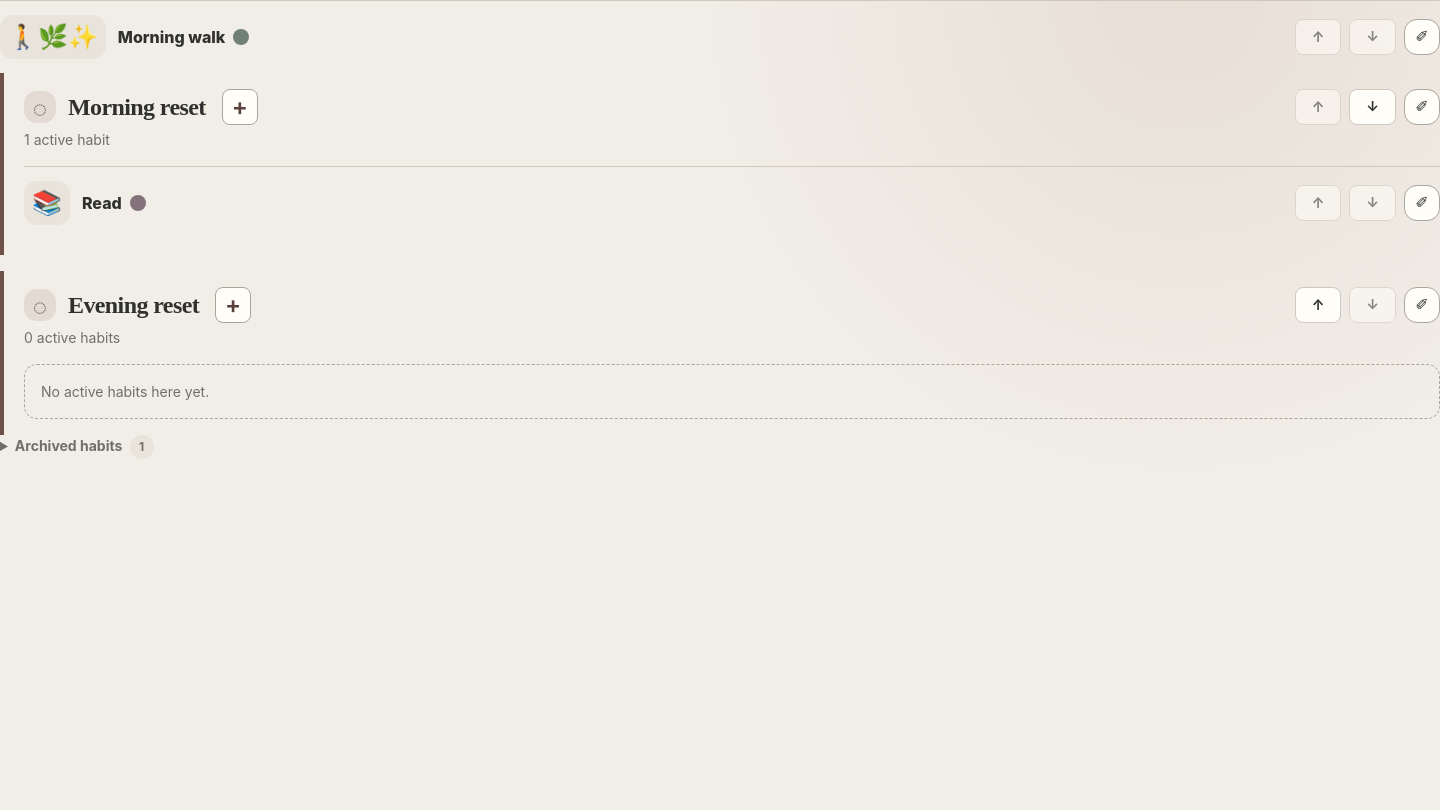
HabitList › keeps archived habits out of active routine lists and restores them in context
Expected: the text "Archived habits" is shown, [15,437,126,454]
Click the heading "Archived habits 1".
click(77, 447)  # box [0,435,154,459]
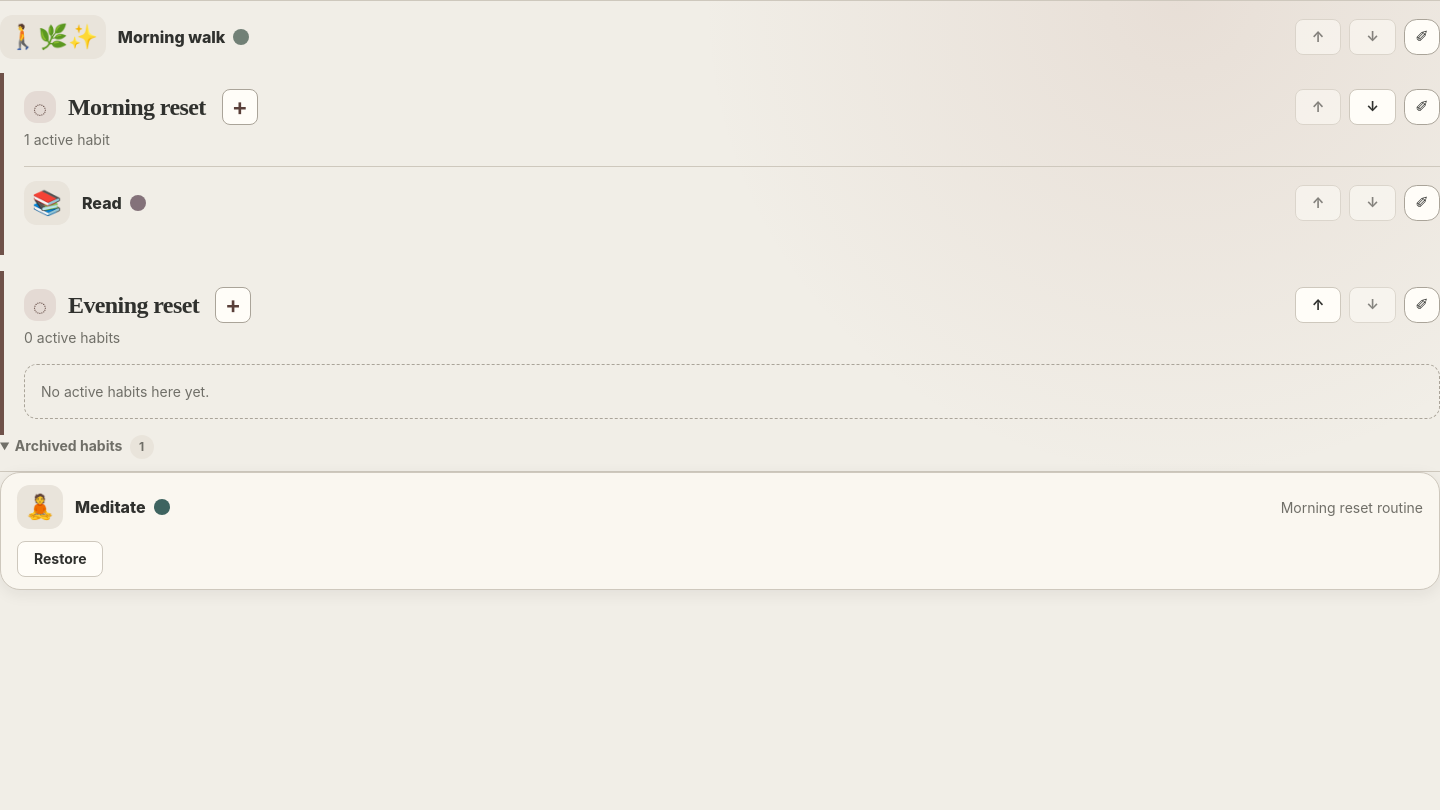
Now the text "Meditate" is shown, box [75,495,146,519]
Now the text "Morning reset routine" is shown, box [1281,496,1423,518]
Now the button "Restore" is enabled, box [17,541,104,577]
